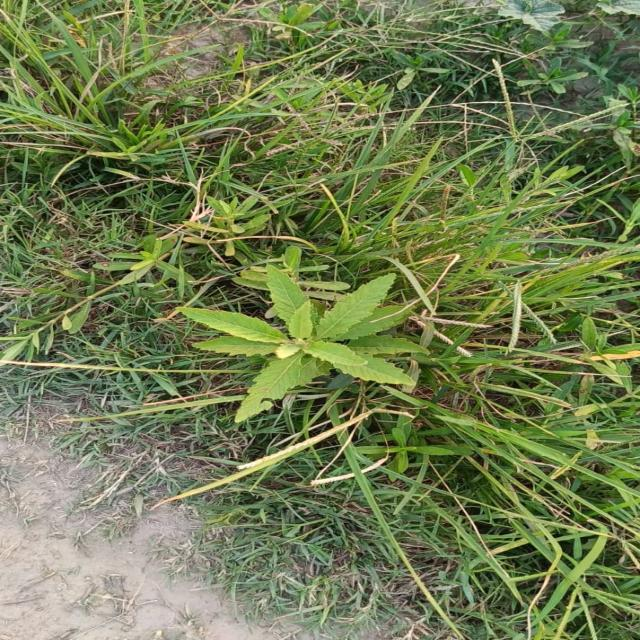weed: (175, 265, 427, 423)
